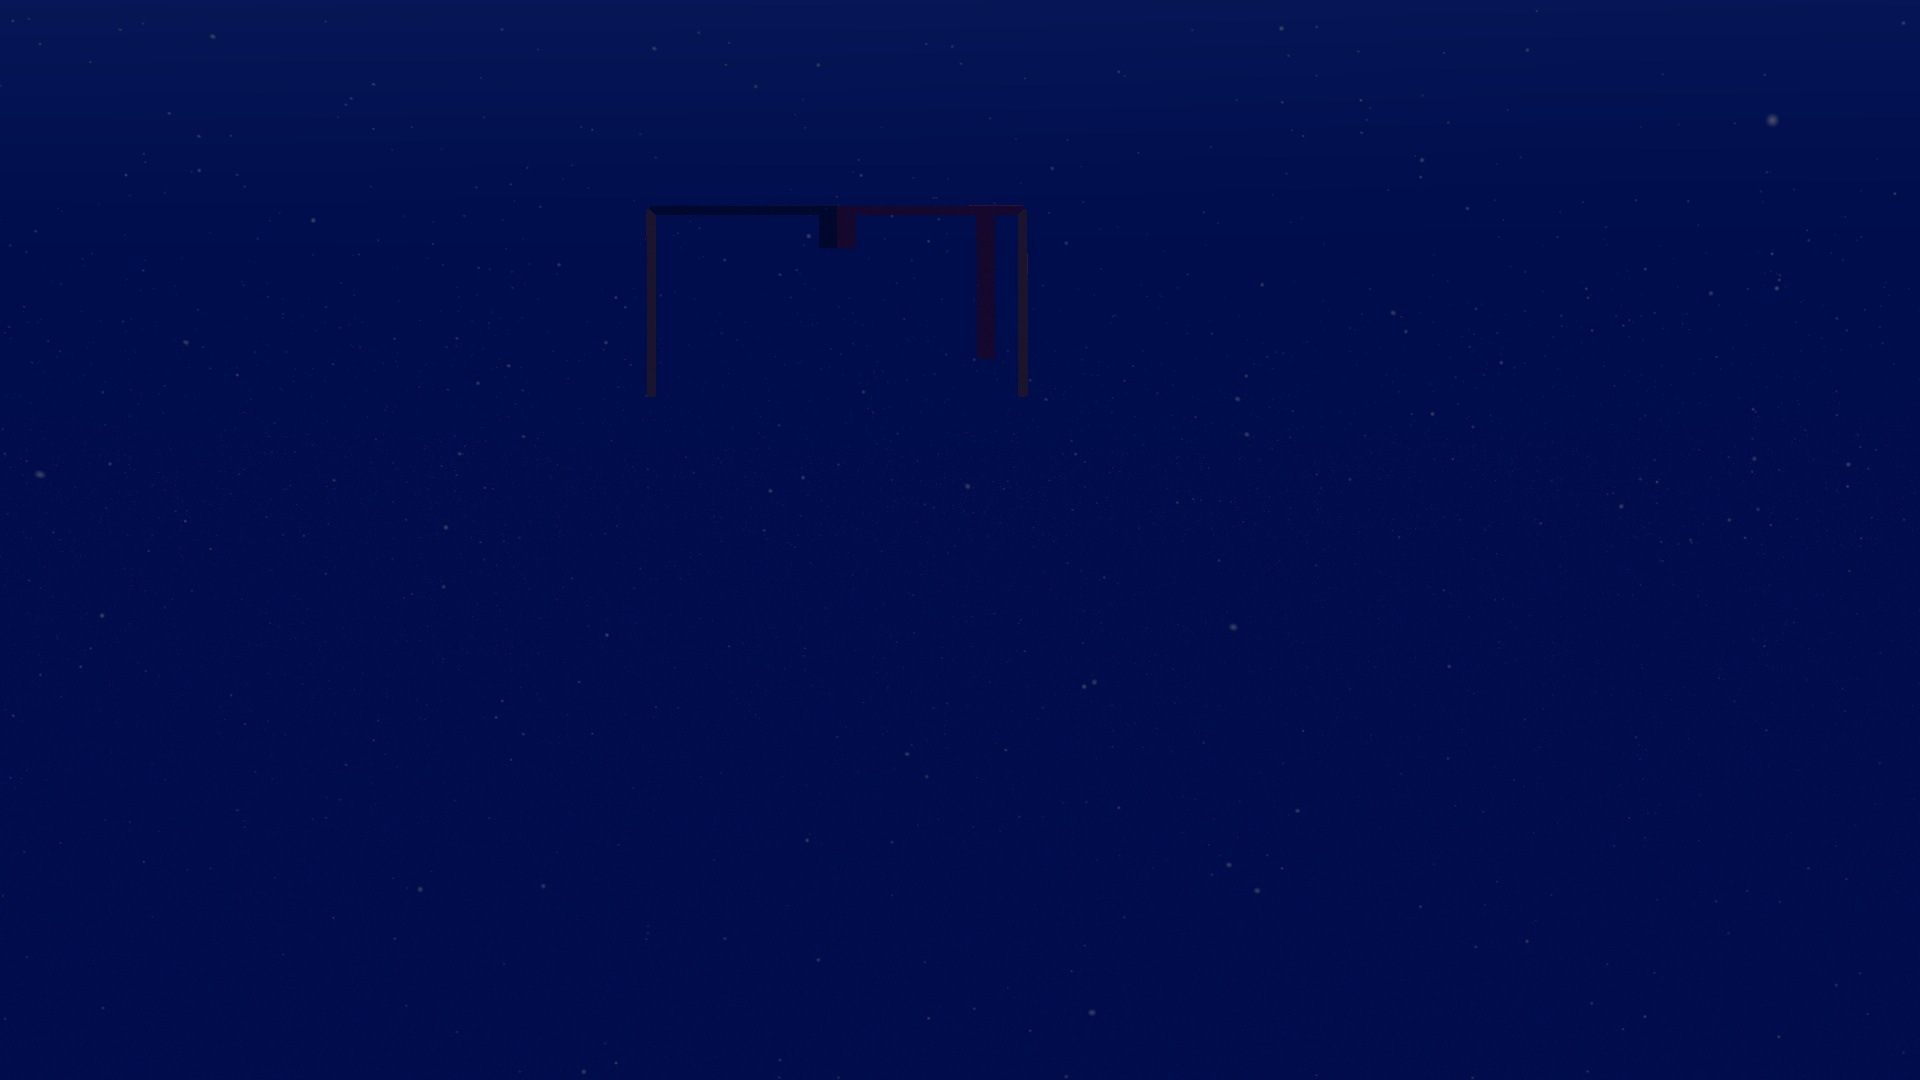Gate: (640, 198, 1036, 411)
